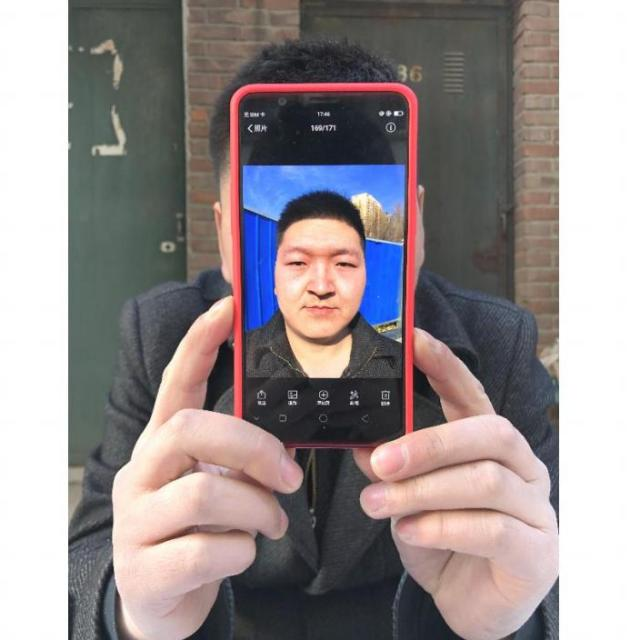device: (228, 80, 421, 454)
